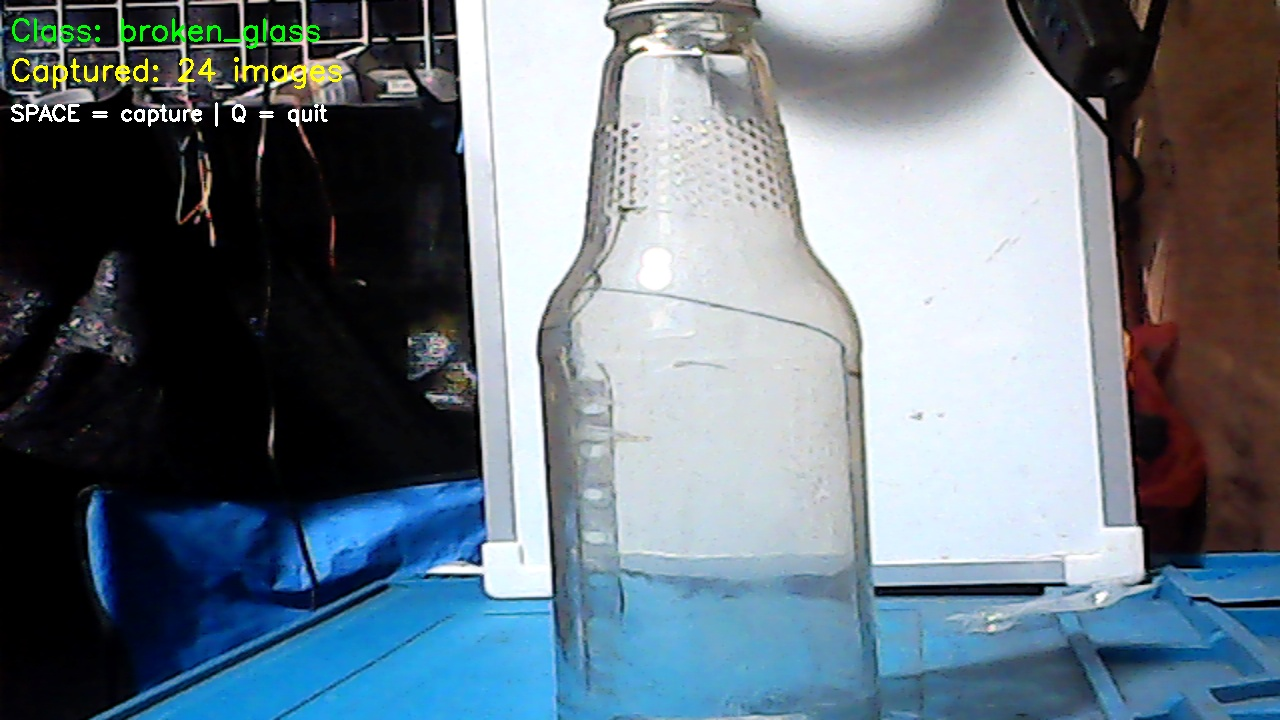broken_glass: (507, 2, 880, 720)
